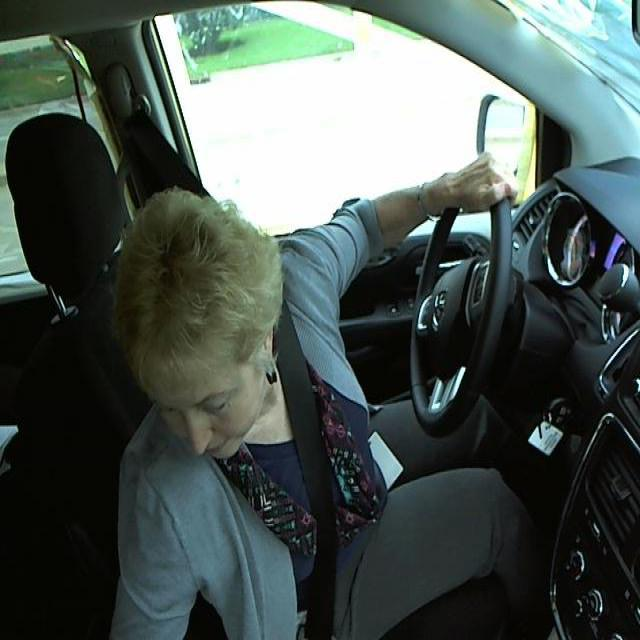seatbelt: (274, 370, 357, 610)
